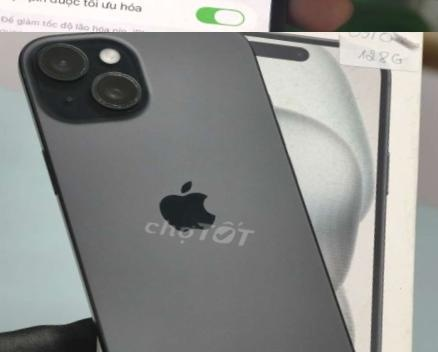scratch: (20, 35, 147, 115)
